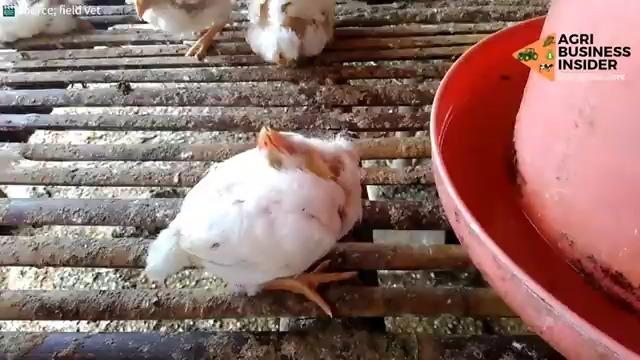AbNormal: (145, 127, 360, 309)
